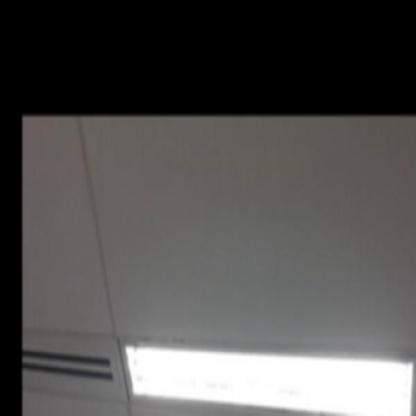light_on: (118, 305, 415, 415)
